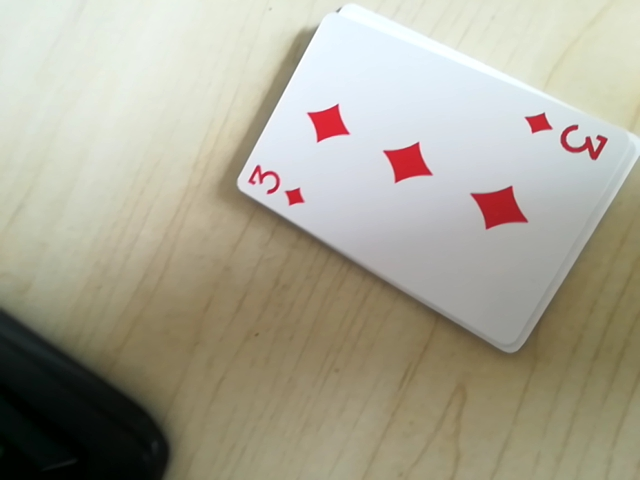fk 3: (524, 110, 612, 165), (237, 159, 308, 212)
